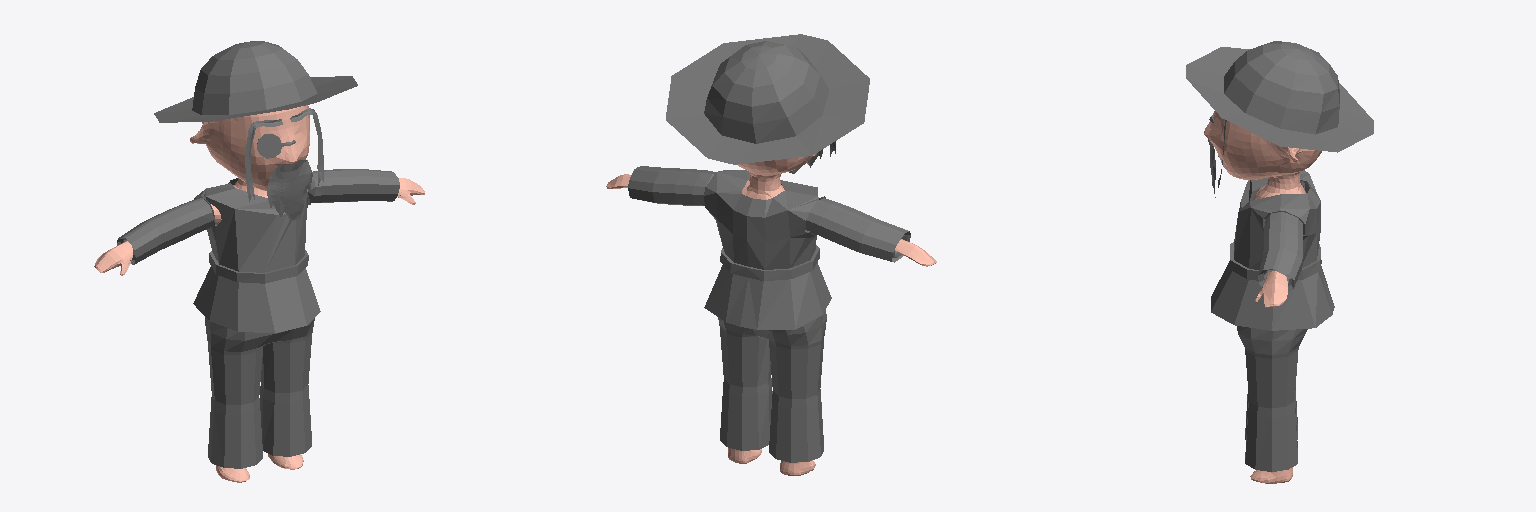
The model's file is villagehead.obj.
The picture shows the model from 3 angles: view 1: azimuth 30°, elevation 25°; view 2: azimuth 150°, elevation 25°; view 3: azimuth 270°, elevation 25°; orthographic projection.
Parts seen in each view (by area): view 1: pCylinder3, pCylinder9, pSphere1, Basebody2:Body, pPlane4, pCylinder10; view 2: pCylinder3, pSphere1, pCylinder9, Basebody2:Body; view 3: pSphere1, pCylinder3, pCylinder9, Basebody2:Body.
Part boxes in pixels (x1,y1,x2,y2): pCylinder3: (117, 169, 399, 332); pCylinder9: (205, 317, 314, 468); pSphere1: (154, 41, 357, 122); Basebody2:Body: (94, 105, 424, 482); pPlane4: (245, 108, 323, 220); pCylinder10: (257, 134, 295, 158); pCylinder3: (628, 166, 910, 329); pSphere1: (666, 34, 869, 164); pCylinder9: (718, 310, 826, 462); Basebody2:Body: (606, 153, 936, 475); pSphere1: (1186, 41, 1373, 152); pCylinder3: (1211, 170, 1334, 330); pCylinder9: (1237, 326, 1307, 471); Basebody2:Body: (1204, 111, 1321, 483).
Bounding box in the file's own units: 83.66 × 103 × 41.65.